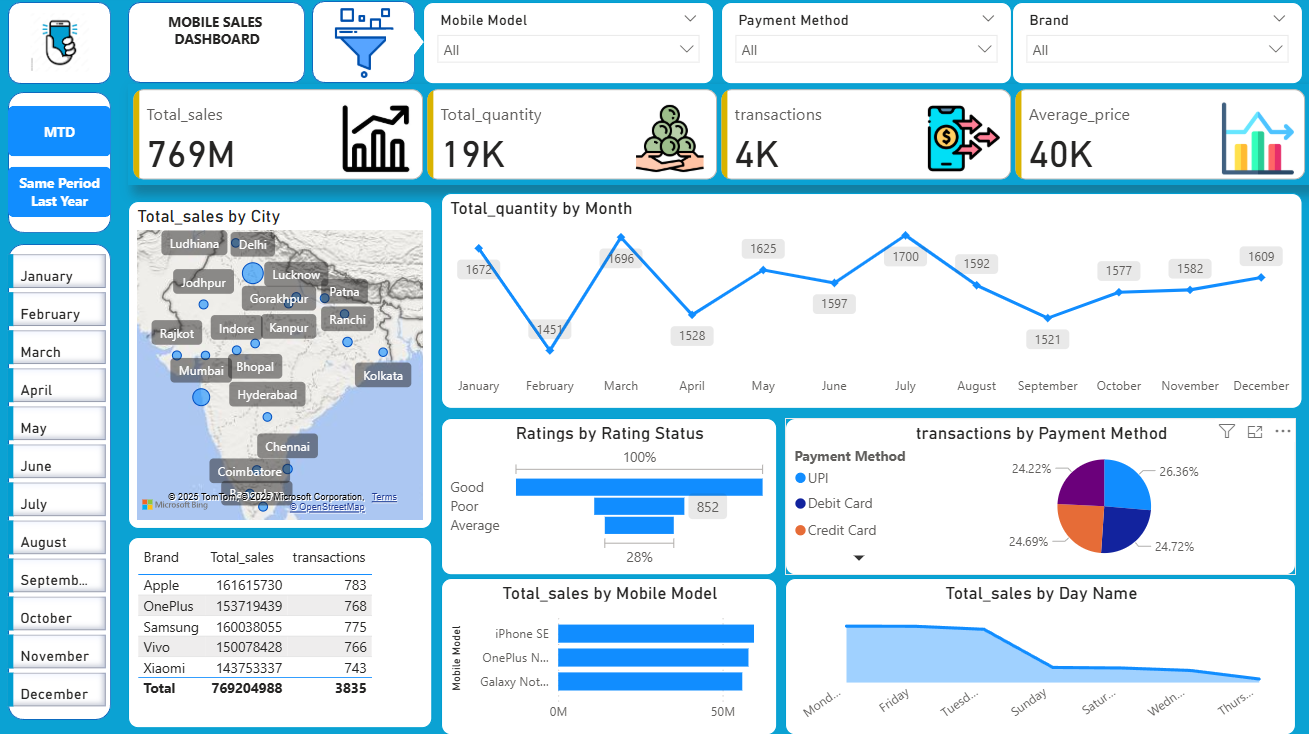

Layout of this report page (visuals, bound fields, positions):
{"tool":"powerbi","page":{"name":"Dashboard","canvas":[1280,720],"ordinal":0},"visuals":[{"type":"shape","box":[9.7,6.8,100.2,79.8],"z":0},{"type":"image","box":[9.7,12.6,100.2,67.1],"z":1000},{"type":"shape","box":[9.7,94.3,100.2,137.1],"z":2000},{"type":"shape","box":[9.7,242.2,100.2,463],"z":3000},{"type":"advancedSlicerVisual","fields":{"Values":["custom_calender.Date.Variation.Date Hierarchy.Month"]},"box":[3.9,247.1,106,453.3],"z":4000},{"type":"cardVisual","fields":{"Data":["mobile_sales.Total_sales","mobile_sales.Total_quantity","mobile_sales.transactions","mobile_sales.Average_price"]},"box":[126.4,86.6,1153.6,98.2],"z":5000},{"type":"slicer","fields":{"Values":["mobile_sales.Mobile Model"]},"box":[413.4,6.8,283,79.8],"z":6000},{"type":"slicer","fields":{"Values":["mobile_sales.Payment Method"]},"box":[703.2,6.8,283,79.8],"z":7000},{"type":"slicer","fields":{"Values":["mobile_sales.Brand"]},"box":[986.3,6.8,283,79.8],"z":8000},{"type":"shape","box":[305.4,5.8,100.2,79.8],"z":9000},{"type":"image","box":[316.1,6.8,79.8,80.7],"z":10000},{"type":"shape","box":[377.4,21.4,37,48.6],"z":11000},{"type":"shape","box":[126.4,6.8,172.2,78.8],"z":12000},{"type":"textbox","box":[132.3,11.7,161.5,58.4],"z":13000},{"type":"map","fields":{"Category":["mobile_sales.City"],"Size":["mobile_sales.Total_sales"]},"box":[126.4,200.4,295.7,319],"z":14000},{"type":"lineChart","fields":{"Y":["mobile_sales.Total_quantity"],"Category":["custom_calender.Date.Variation.Date Hierarchy.Month"]},"box":[430.9,192.6,838.4,210.1],"z":15000},{"type":"funnel","title":"Ratings by Rating Status","fields":{"Y":["CountNonNull(mobile_sales.Customer Ratings)"],"Category":["mobile_sales.Rating_status"]},"box":[430.9,411.4,326.8,152.7],"z":16000},{"type":"pieChart","fields":{"Y":["mobile_sales.transactions"],"Category":["mobile_sales.Payment Method"]},"box":[765.5,411.4,497,152.7],"z":17000},{"type":"clusteredBarChart","fields":{"Y":["mobile_sales.Total_sales"],"Category":["mobile_sales.Mobile Model"]},"box":[430.9,567.1,326.8,152.7],"z":18000},{"type":"areaChart","fields":{"Category":["custom_calender.Day Name"],"Y":["mobile_sales.Total_sales"]},"box":[765.5,567.1,497,152.7],"z":19000},{"type":"tableEx","fields":{"Values":["mobile_sales.Brand","mobile_sales.Total_sales","mobile_sales.transactions"]},"box":[126.4,527.2,295.7,185.8],"z":20000},{"type":"pageNavigator","box":[9.7,108,100.2,109.9],"z":21000}]}

Visuals, with their boxes in screenshot pixels (x1, y1, x2, y2), scaled from the page's 1280x720 canvas onto the 1309x734 screenshot:
shape: [10, 7, 112, 88]
image: [10, 13, 112, 81]
shape: [10, 96, 112, 236]
shape: [10, 247, 112, 719]
advancedSlicerVisual - custom_calender.Date.Variation.Date Hierarchy.Month: [4, 252, 112, 714]
cardVisual - mobile_sales.Total_sales x mobile_sales.Total_quantity: [129, 88, 1308, 188]
slicer - mobile_sales.Mobile Model: [423, 7, 712, 88]
slicer - mobile_sales.Payment Method: [719, 7, 1009, 88]
slicer - mobile_sales.Brand: [1009, 7, 1298, 88]
shape: [312, 6, 415, 87]
image: [323, 7, 405, 89]
shape: [386, 22, 424, 71]
shape: [129, 7, 305, 87]
textbox: [135, 12, 300, 71]
map - mobile_sales.City x mobile_sales.Total_sales: [129, 204, 432, 529]
lineChart - mobile_sales.Total_quantity x custom_calender.Date.Variation.Date Hierarchy.Month: [441, 196, 1298, 411]
"Ratings by Rating Status" funnel: [441, 419, 775, 575]
pieChart - mobile_sales.transactions x mobile_sales.Payment Method: [783, 419, 1291, 575]
clusteredBarChart - mobile_sales.Total_sales x mobile_sales.Mobile Model: [441, 578, 775, 733]
areaChart - custom_calender.Day Name x mobile_sales.Total_sales: [783, 578, 1291, 733]
tableEx - mobile_sales.Brand x mobile_sales.Total_sales: [129, 537, 432, 727]
pageNavigator: [10, 110, 112, 222]
